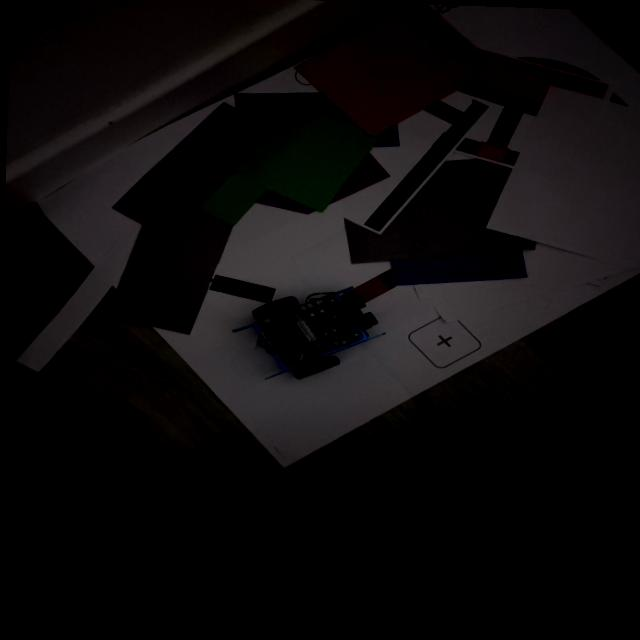mbot-detection: (224, 278, 393, 389)
